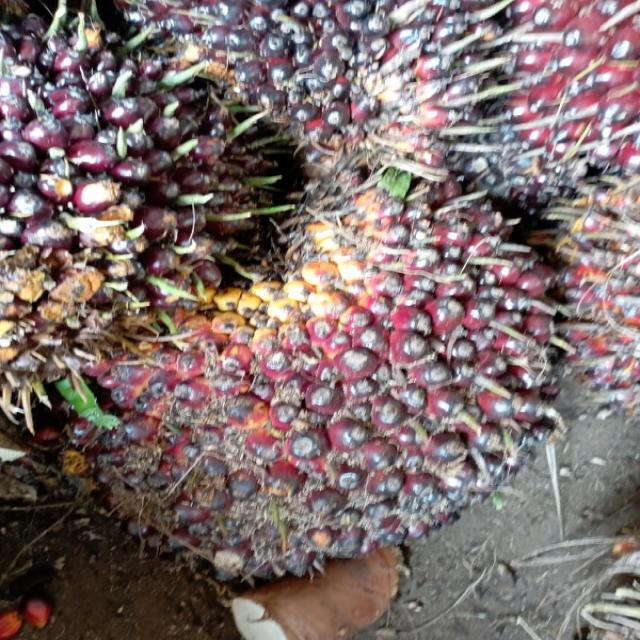fraksi 1: (122, 195, 570, 592)
